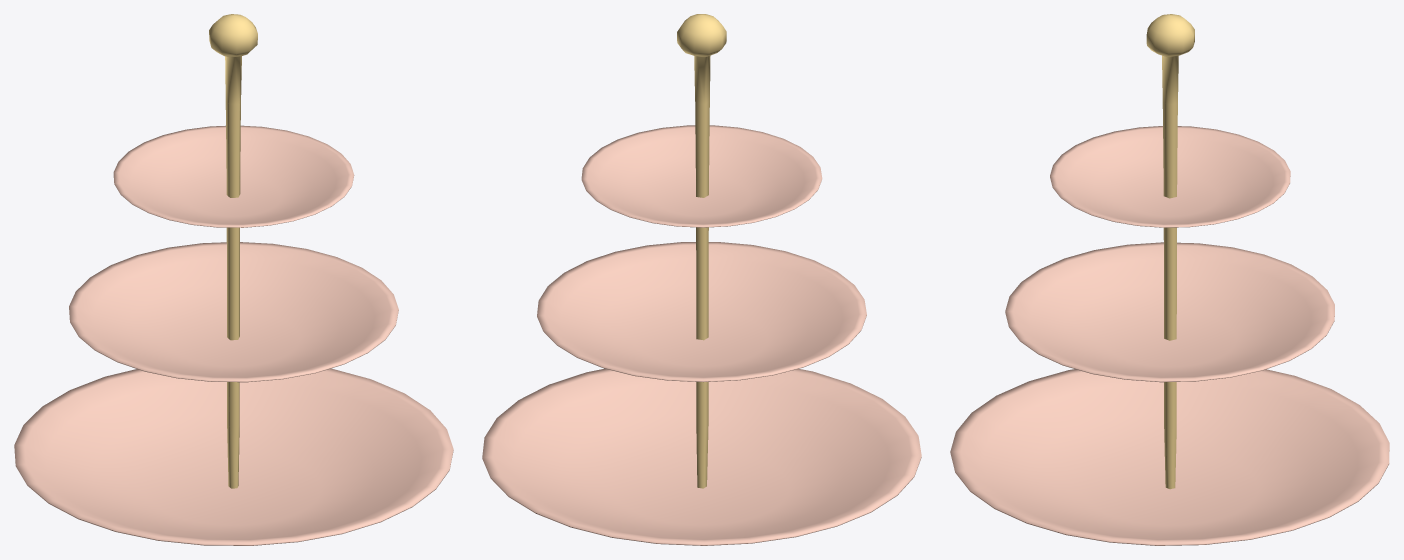
The model's file is tarel3.fbx.
3 views of the same model, side by side, from view 1: azimuth 30°, elevation 25°; view 2: azimuth 150°, elevation 25°; view 3: azimuth 270°, elevation 25° (orthographic).
Visible parts, largest first — view 1: Plate_1_low; view 2: Plate_1_low; view 3: Plate_1_low.
Boxes of the visible parts, x1,y1,x2,y2 form: Plate_1_low: (14, 14, 453, 545); Plate_1_low: (482, 14, 921, 545); Plate_1_low: (950, 14, 1389, 545).
Bounding box in the file's own units: 392 × 468 × 392.
